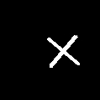single_crochet: (47, 35, 79, 67)
